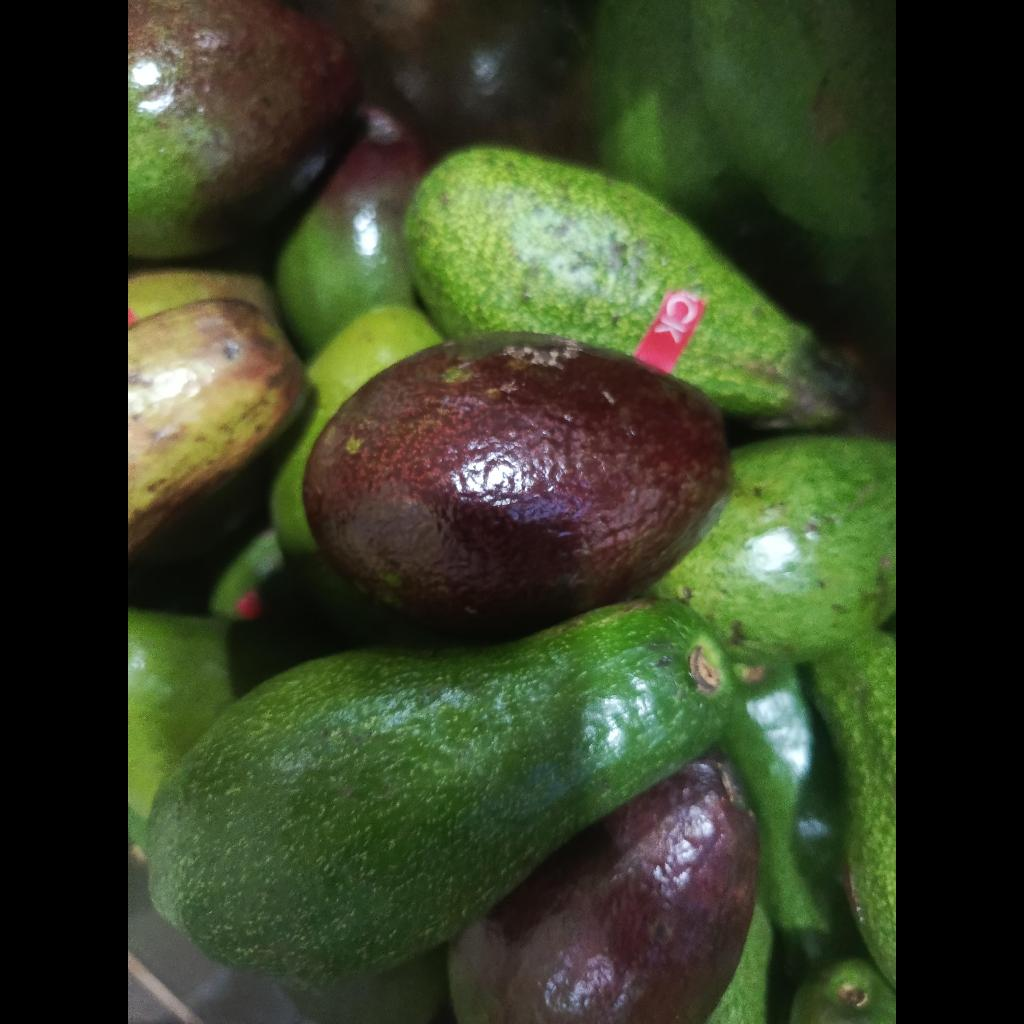anthracnose: (128, 300, 304, 556)
healthy: (144, 600, 737, 983), (406, 147, 853, 427), (449, 751, 759, 1024), (128, 0, 359, 259), (655, 435, 896, 664)
scab: (303, 332, 731, 638)
stem end rot: (128, 300, 304, 557)
